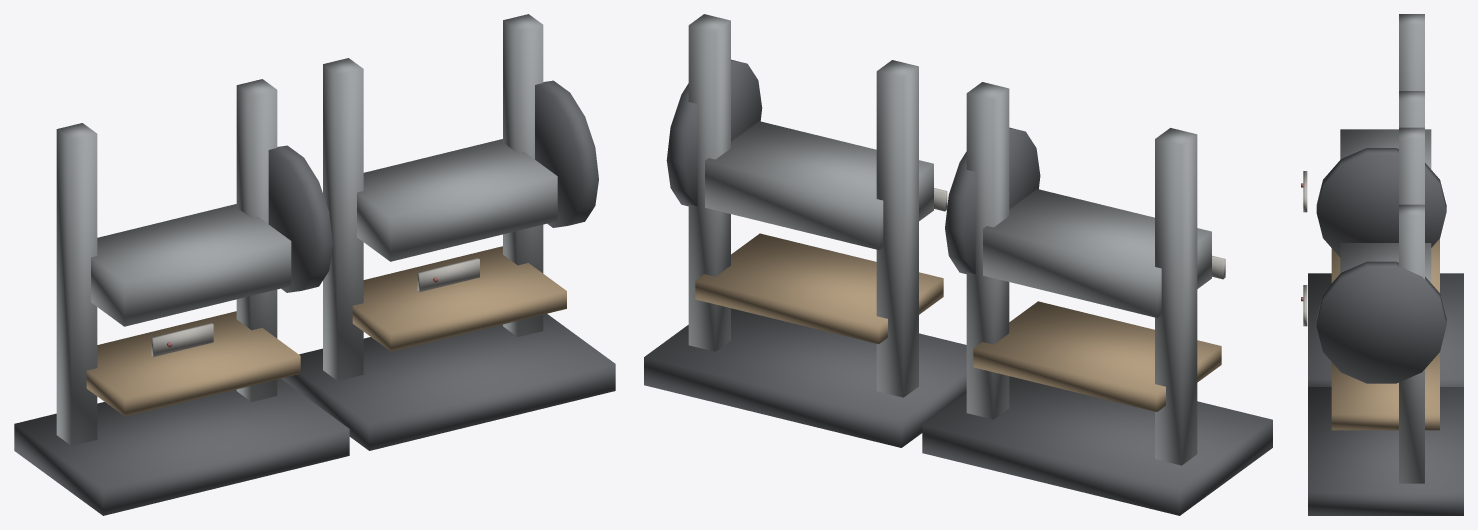
File: letterpress_silhouette__cluster.glb
3 views of the same model, side by side, from view 1: azimuth 30°, elevation 25°; view 2: azimuth 150°, elevation 25°; view 3: azimuth 270°, elevation 25° (orthographic). The views are drawn at different scales.
Parts seen in each view (by area): view 1: world; view 2: world; view 3: world.
Part boxes in pixels (bbox=[...]): world: bbox=[14, 14, 615, 515]; world: bbox=[644, 14, 1272, 515]; world: bbox=[1301, 14, 1463, 515].
Bounding box in the file's own units: 2.39 × 1.49 × 0.751.
